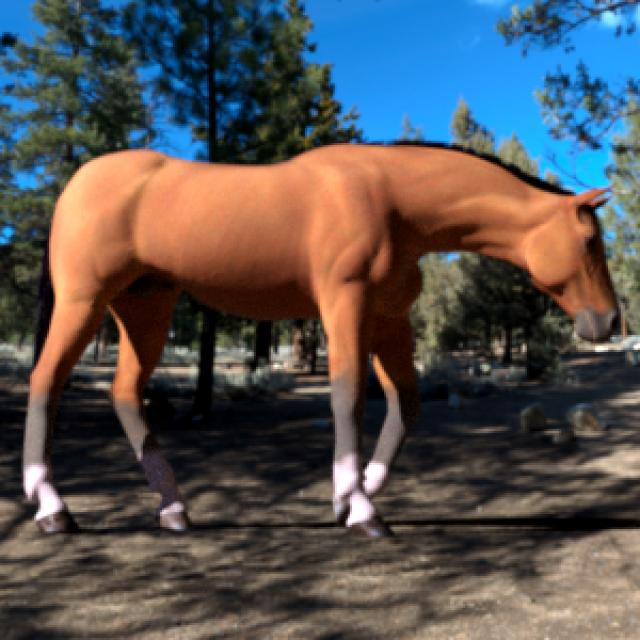horse: (24, 145, 619, 537)
